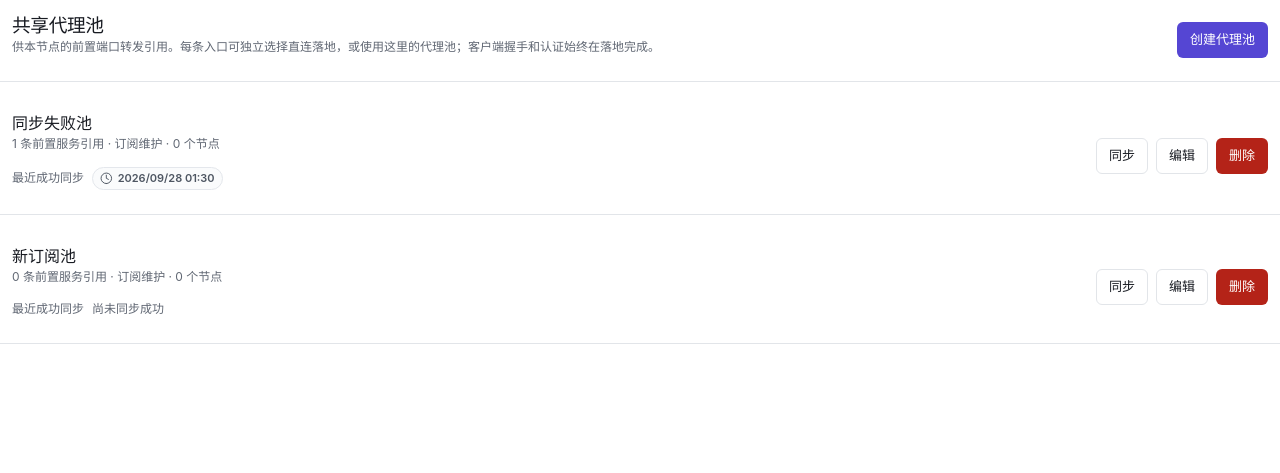
Test case: node shared pools › keeps the last successful time visible on failure and distinguishes a never-synced pool
Check: the element showing "新订阅池 0 条前置服务引用 · 订阅维护 · 0 个节点 最近成功同步 尚未同步成功 同步 编辑 删除" is shown, box [0,231,1279,344]
Click the button "同步" in the row of "2026/09/28 01:30".
click(1122, 156)  # box [1096,138,1148,174]
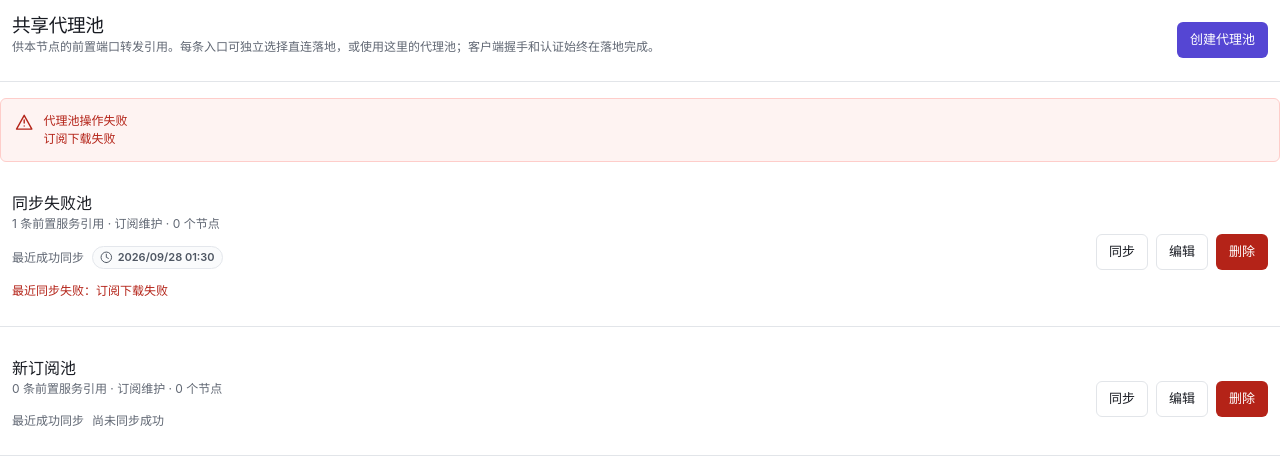
Check: the element that starts with "同步失败池" shows "最近同步失败：订阅下载失败", box [12,283,168,298]
